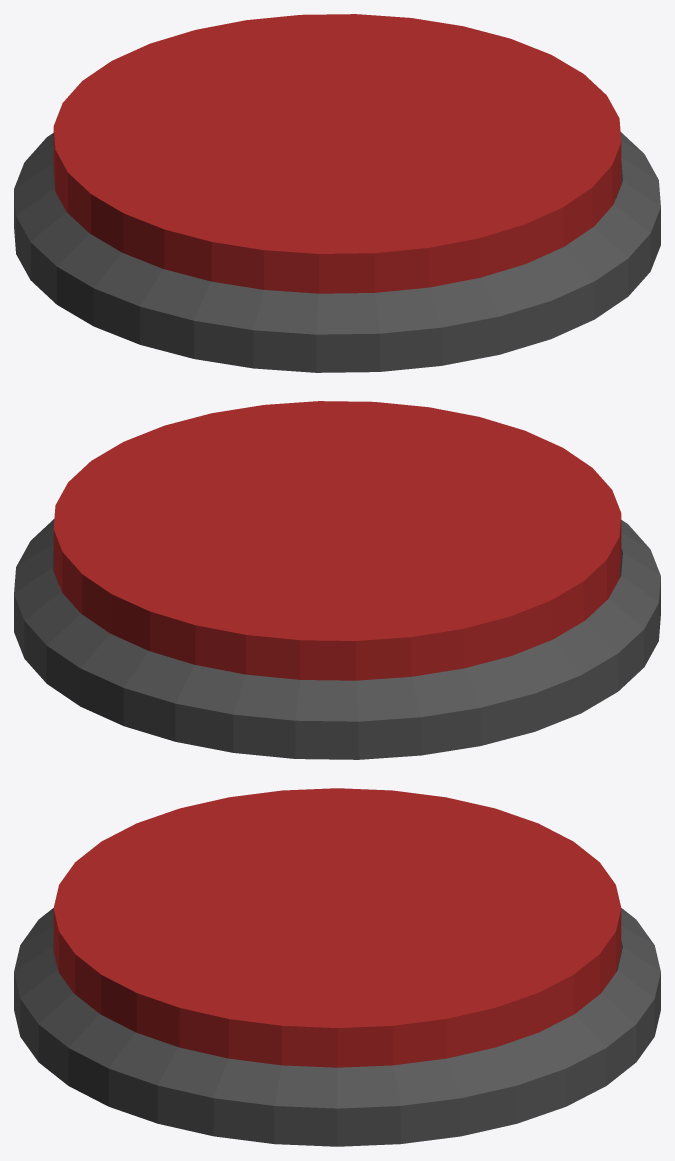
Rendered from button.fbx.
The picture shows the model from 3 angles, top to bottom: view 1: azimuth 30°, elevation 25°; view 2: azimuth 150°, elevation 25°; view 3: azimuth 270°, elevation 25°; orthographic projection.
Parts seen in each view (by area): view 1: Cylinder.001, Cylinder; view 2: Cylinder.001, Cylinder; view 3: Cylinder.001, Cylinder.
Part boxes in pixels (x1,y1,x2,y2): Cylinder.001: [53, 14, 621, 293]; Cylinder: [14, 132, 660, 372]; Cylinder.001: [53, 401, 621, 680]; Cylinder: [14, 519, 660, 759]; Cylinder.001: [53, 788, 621, 1067]; Cylinder: [14, 908, 660, 1146].
Bounding box in the file's own units: 150 × 26.07 × 150.
